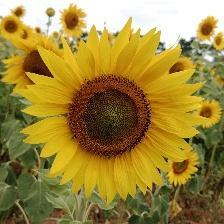sunflower: (38, 46, 194, 195)
